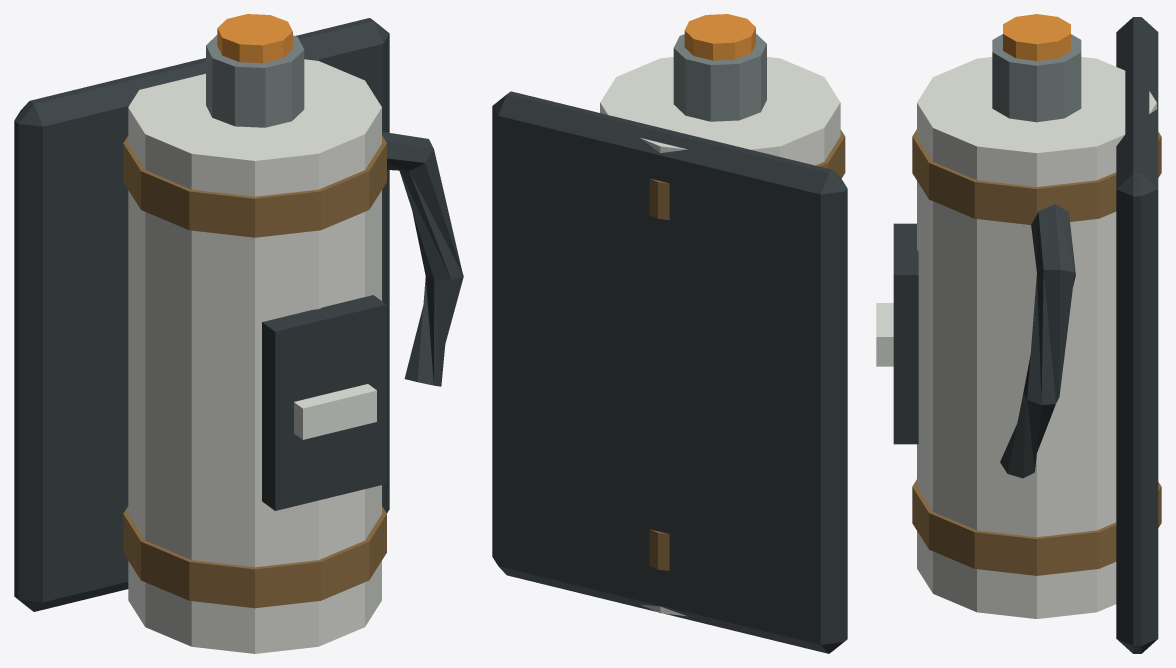
The model's file is person_pack_firefoam.obj.
The picture shows the model from 3 angles, left to right: view 1: azimuth 30°, elevation 25°; view 2: azimuth 150°, elevation 25°; view 3: azimuth 270°, elevation 25°; orthographic projection. The views are drawn at different scales.
Parts seen in each view (by area): view 1: person_pack_firefoam; view 2: person_pack_firefoam; view 3: person_pack_firefoam.
Boxes of the visible parts, x1,y1,x2,y2 form: person_pack_firefoam: [14, 14, 463, 653]; person_pack_firefoam: [492, 14, 847, 653]; person_pack_firefoam: [876, 14, 1161, 653].
Size of the model in its own units: 0.277 by 0.387 by 0.183.
